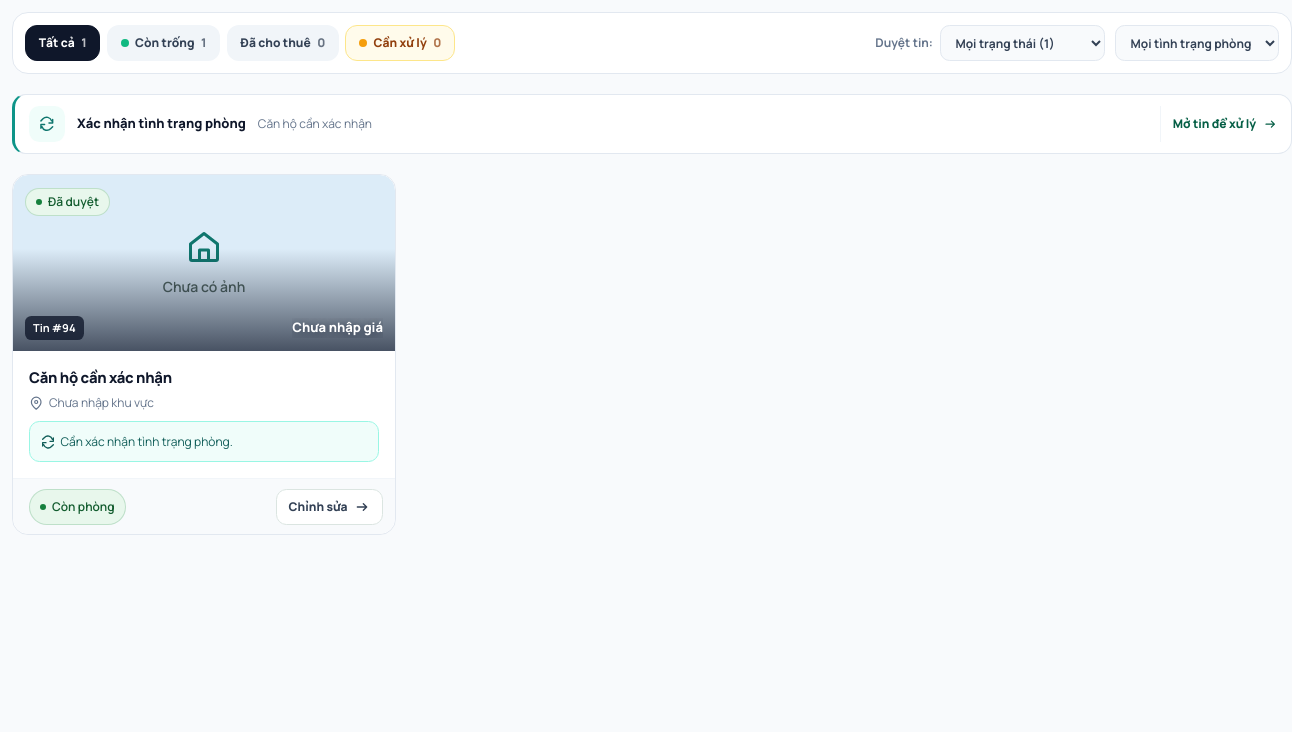
Test case: OwnerListingsPage › keeps availability confirmation in the existing quick action contract
Click the button with aria-label "Xem chi tiết chỗ ở: Căn hộ cần xác nhận": (204,263) [13,175,395,351]
(page scrolled)
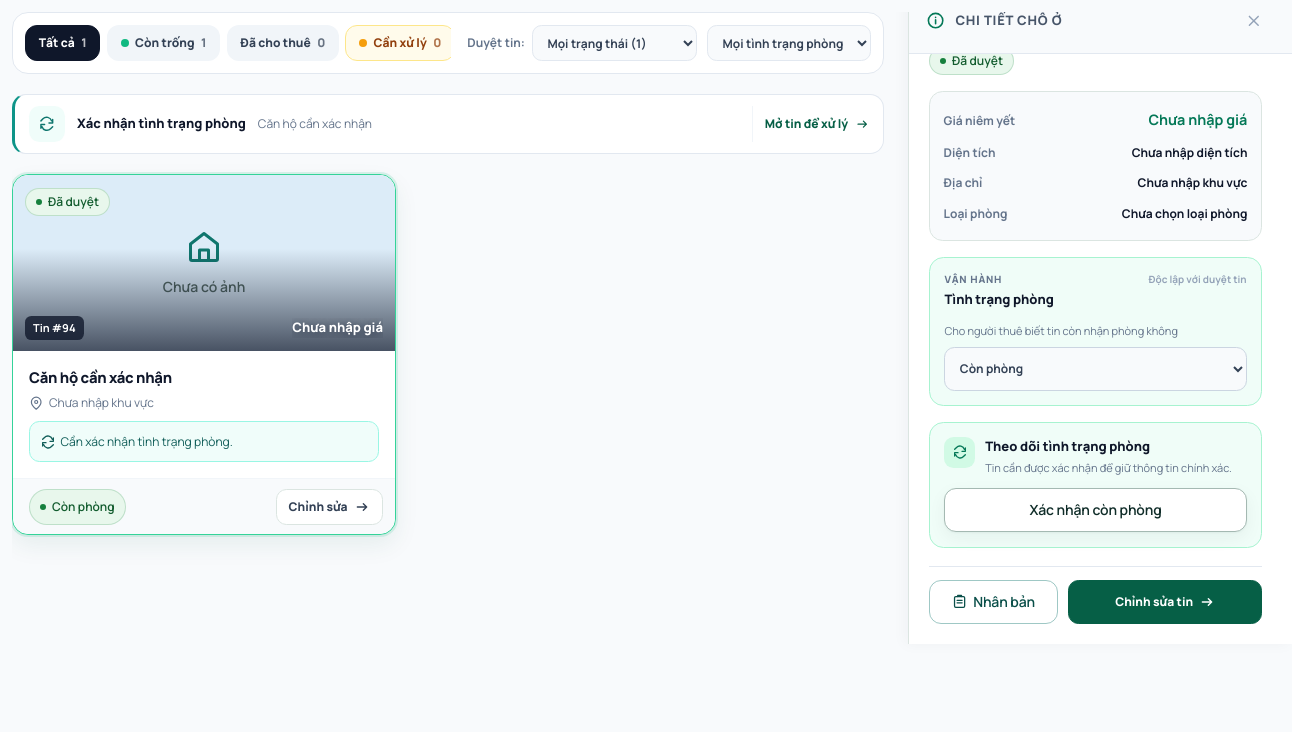
Click the button "Xác nhận còn phòng": (1096,510) [944,488,1247,532]
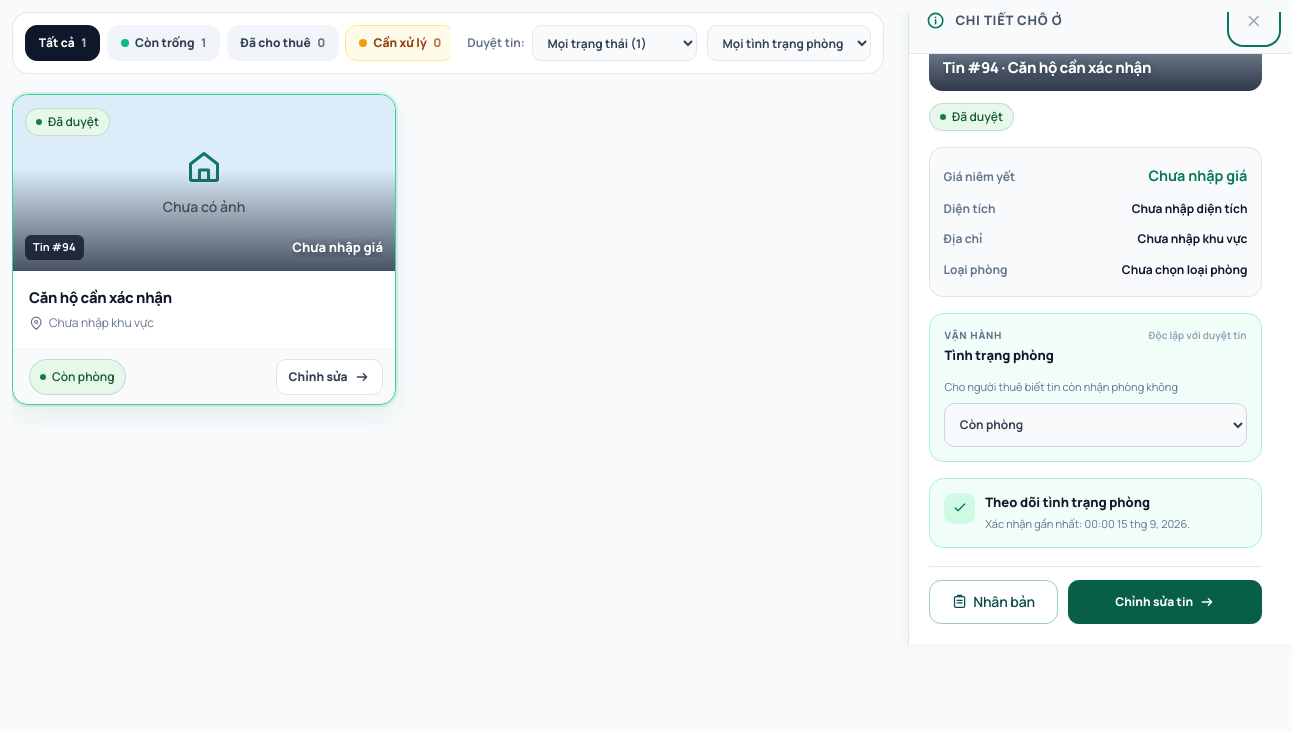
expect the text "Xác nhận gần nhất: 00:00 15 thg 9, 2026." is shown: met, box [985,516,1190,532]
